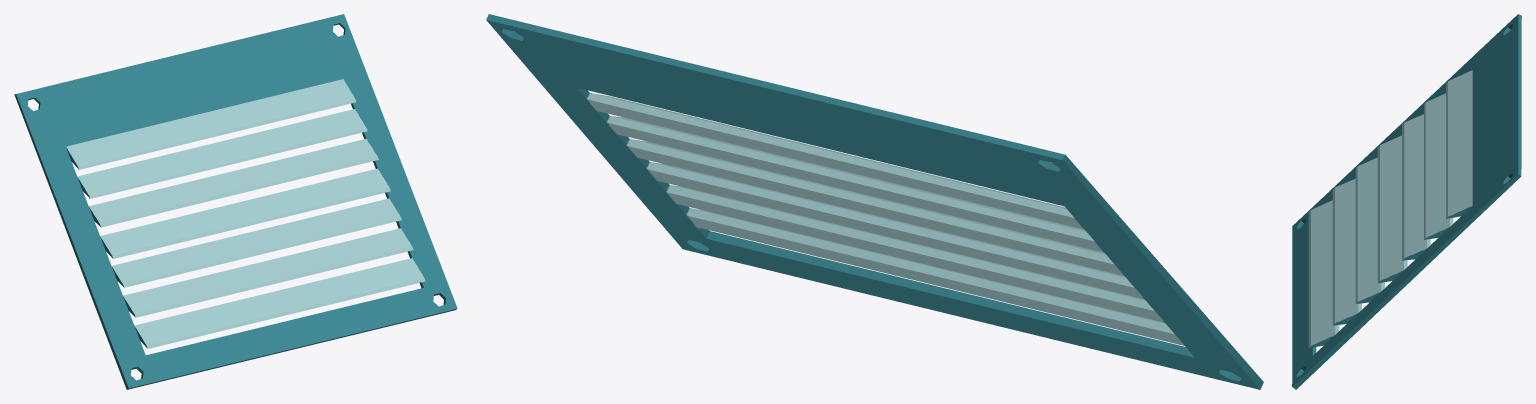
Rendered from Console_Right_Panel_Lid.fbx.
The picture shows the model from 3 angles, left to right: view 1: azimuth 30°, elevation 25°; view 2: azimuth 150°, elevation 25°; view 3: azimuth 270°, elevation 25°; orthographic projection. The views are drawn at different scales.
Parts seen in each view (by area): view 1: Right_Console_Panel; view 2: Right_Console_Panel; view 3: Right_Console_Panel.
Part boxes in pixels (x1,y1,x2,y2): Right_Console_Panel: (14,14,457,389); Right_Console_Panel: (486,14,1263,389); Right_Console_Panel: (1292,14,1521,389).
Size of the model in its own units: 484 by 303 by 292.
